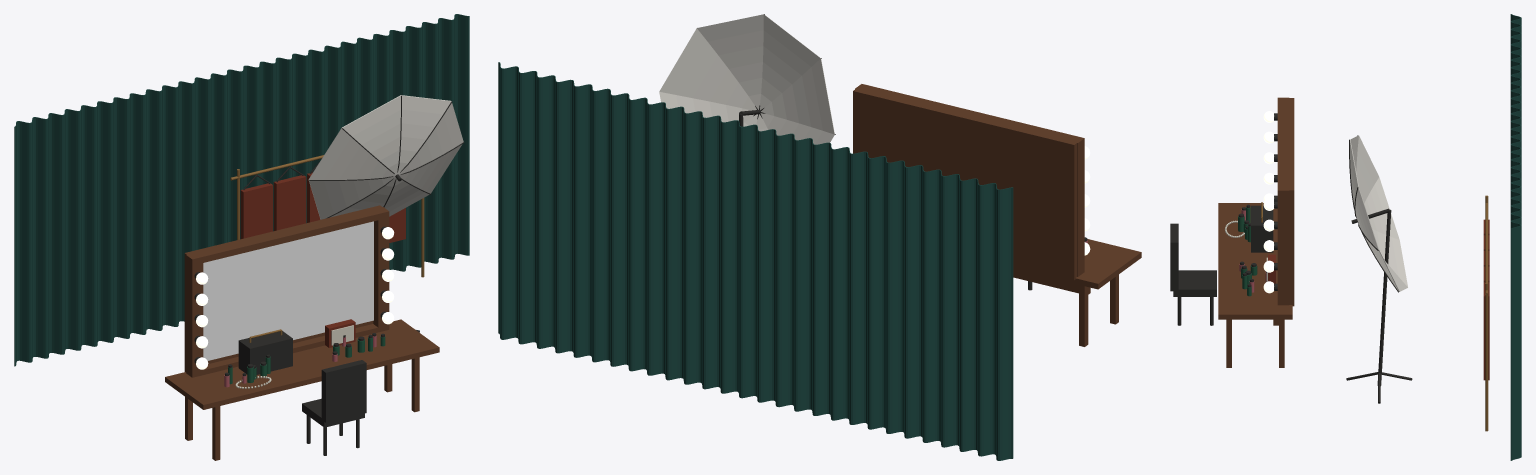
3 renders of one model, left to right at view 1: azimuth 30°, elevation 25°; view 2: azimuth 150°, elevation 25°; view 3: azimuth 270°, elevation 25°, orthographic. The views are drawn at different scales.
Visible parts, largest first — view 1: MIRROR_surface, UMBRELLA_finite_canopy_proxy, TABLE_top, CURTAIN_fold_proxy_7, CURTAIN_fold_proxy_8, CURTAIN_fold_proxy_0, CURTAIN_fold_proxy_3, CURTAIN_fold_proxy_1, CURTAIN_fold_proxy_2, CURTAIN_fold_proxy_9, CURTAIN_fold_proxy_5, CURTAIN_fold_proxy_6 (+32 smaller); view 2: MIRROR_backboard_inferred, UMBRELLA_finite_canopy_proxy, CURTAIN_fold_proxy_0, CURTAIN_fold_proxy_12, CURTAIN_fold_proxy_20, CURTAIN_fold_proxy_4, CURTAIN_fold_proxy_14, CURTAIN_fold_proxy_22, CURTAIN_fold_proxy_1, CURTAIN_fold_proxy_5, CURTAIN_fold_proxy_15, CURTAIN_fold_proxy_18 (+21 smaller); view 3: TABLE_top, UMBRELLA_finite_canopy_proxy, CURTAIN_fold_proxy_27, MIRROR_frame_1, MIRROR_backboard_inferred, CHAIR_seat_proxy, MIRROR_frame_horizontal_2.31, COSMETIC_case_body, UMBRELLA_stand_inferred, CHAIR_back_proxy, RACK_post_proxy.001, GARMENT_finite_proxy_4.
Part boxes in pixels (left/top/right/bottom): MIRROR_surface: left=203, top=221, right=373, bottom=360; UMBRELLA_finite_canopy_proxy: left=308, top=95, right=463, bottom=219; TABLE_top: left=165, top=319, right=439, bottom=409; CURTAIN_fold_proxy_7: left=128, top=93, right=144, bottom=338; CURTAIN_fold_proxy_8: left=144, top=89, right=160, bottom=334; CURTAIN_fold_proxy_0: left=14, top=121, right=30, bottom=366; CURTAIN_fold_proxy_3: left=63, top=109, right=79, bottom=354; CURTAIN_fold_proxy_1: left=31, top=117, right=47, bottom=362; CURTAIN_fold_proxy_2: left=47, top=113, right=63, bottom=358; CURTAIN_fold_proxy_9: left=161, top=85, right=177, bottom=330; CURTAIN_fold_proxy_5: left=96, top=101, right=112, bottom=346; CURTAIN_fold_proxy_6: left=112, top=97, right=128, bottom=342; MIRROR_backboard_inferred: left=853, top=88, right=1077, bottom=280; UMBRELLA_finite_canopy_proxy: left=659, top=14, right=834, bottom=144; CURTAIN_fold_proxy_0: left=994, top=183, right=1013, bottom=460; CURTAIN_fold_proxy_12: left=774, top=129, right=792, bottom=407; CURTAIN_fold_proxy_20: left=627, top=93, right=645, bottom=371; CURTAIN_fold_proxy_4: left=921, top=165, right=939, bottom=442; CURTAIN_fold_proxy_14: left=737, top=120, right=755, bottom=398; CURTAIN_fold_proxy_22: left=590, top=84, right=608, bottom=362; CURTAIN_fold_proxy_1: left=976, top=178, right=994, bottom=456; CURTAIN_fold_proxy_5: left=902, top=160, right=921, bottom=438; CURTAIN_fold_proxy_15: left=719, top=116, right=737, bottom=393; CURTAIN_fold_proxy_18: left=663, top=102, right=682, bottom=380; TABLE_top: left=1218, top=203, right=1292, bottom=319; UMBRELLA_finite_canopy_proxy: left=1350, top=135, right=1407, bottom=291; CURTAIN_fold_proxy_27: left=1510, top=221, right=1521, bottom=460; MIRROR_frame_1: left=1277, top=185, right=1289, bottom=305; MIRROR_backboard_inferred: left=1287, top=98, right=1294, bottom=306; CHAIR_seat_proxy: left=1173, top=270, right=1216, bottom=296; MIRROR_frame_horizontal_2.31: left=1277, top=102, right=1289, bottom=185; COSMETIC_case_body: left=1251, top=205, right=1273, bottom=252; UMBRELLA_stand_inferred: left=1377, top=209, right=1391, bottom=385; CHAIR_back_proxy: left=1170, top=223, right=1178, bottom=291; RACK_post_proxy.001: left=1485, top=282, right=1488, bottom=431; GARMENT_finite_proxy_4: left=1483, top=282, right=1489, bottom=380.
Size of the model in its own units: 6.16 by 3.34 by 4.25.
